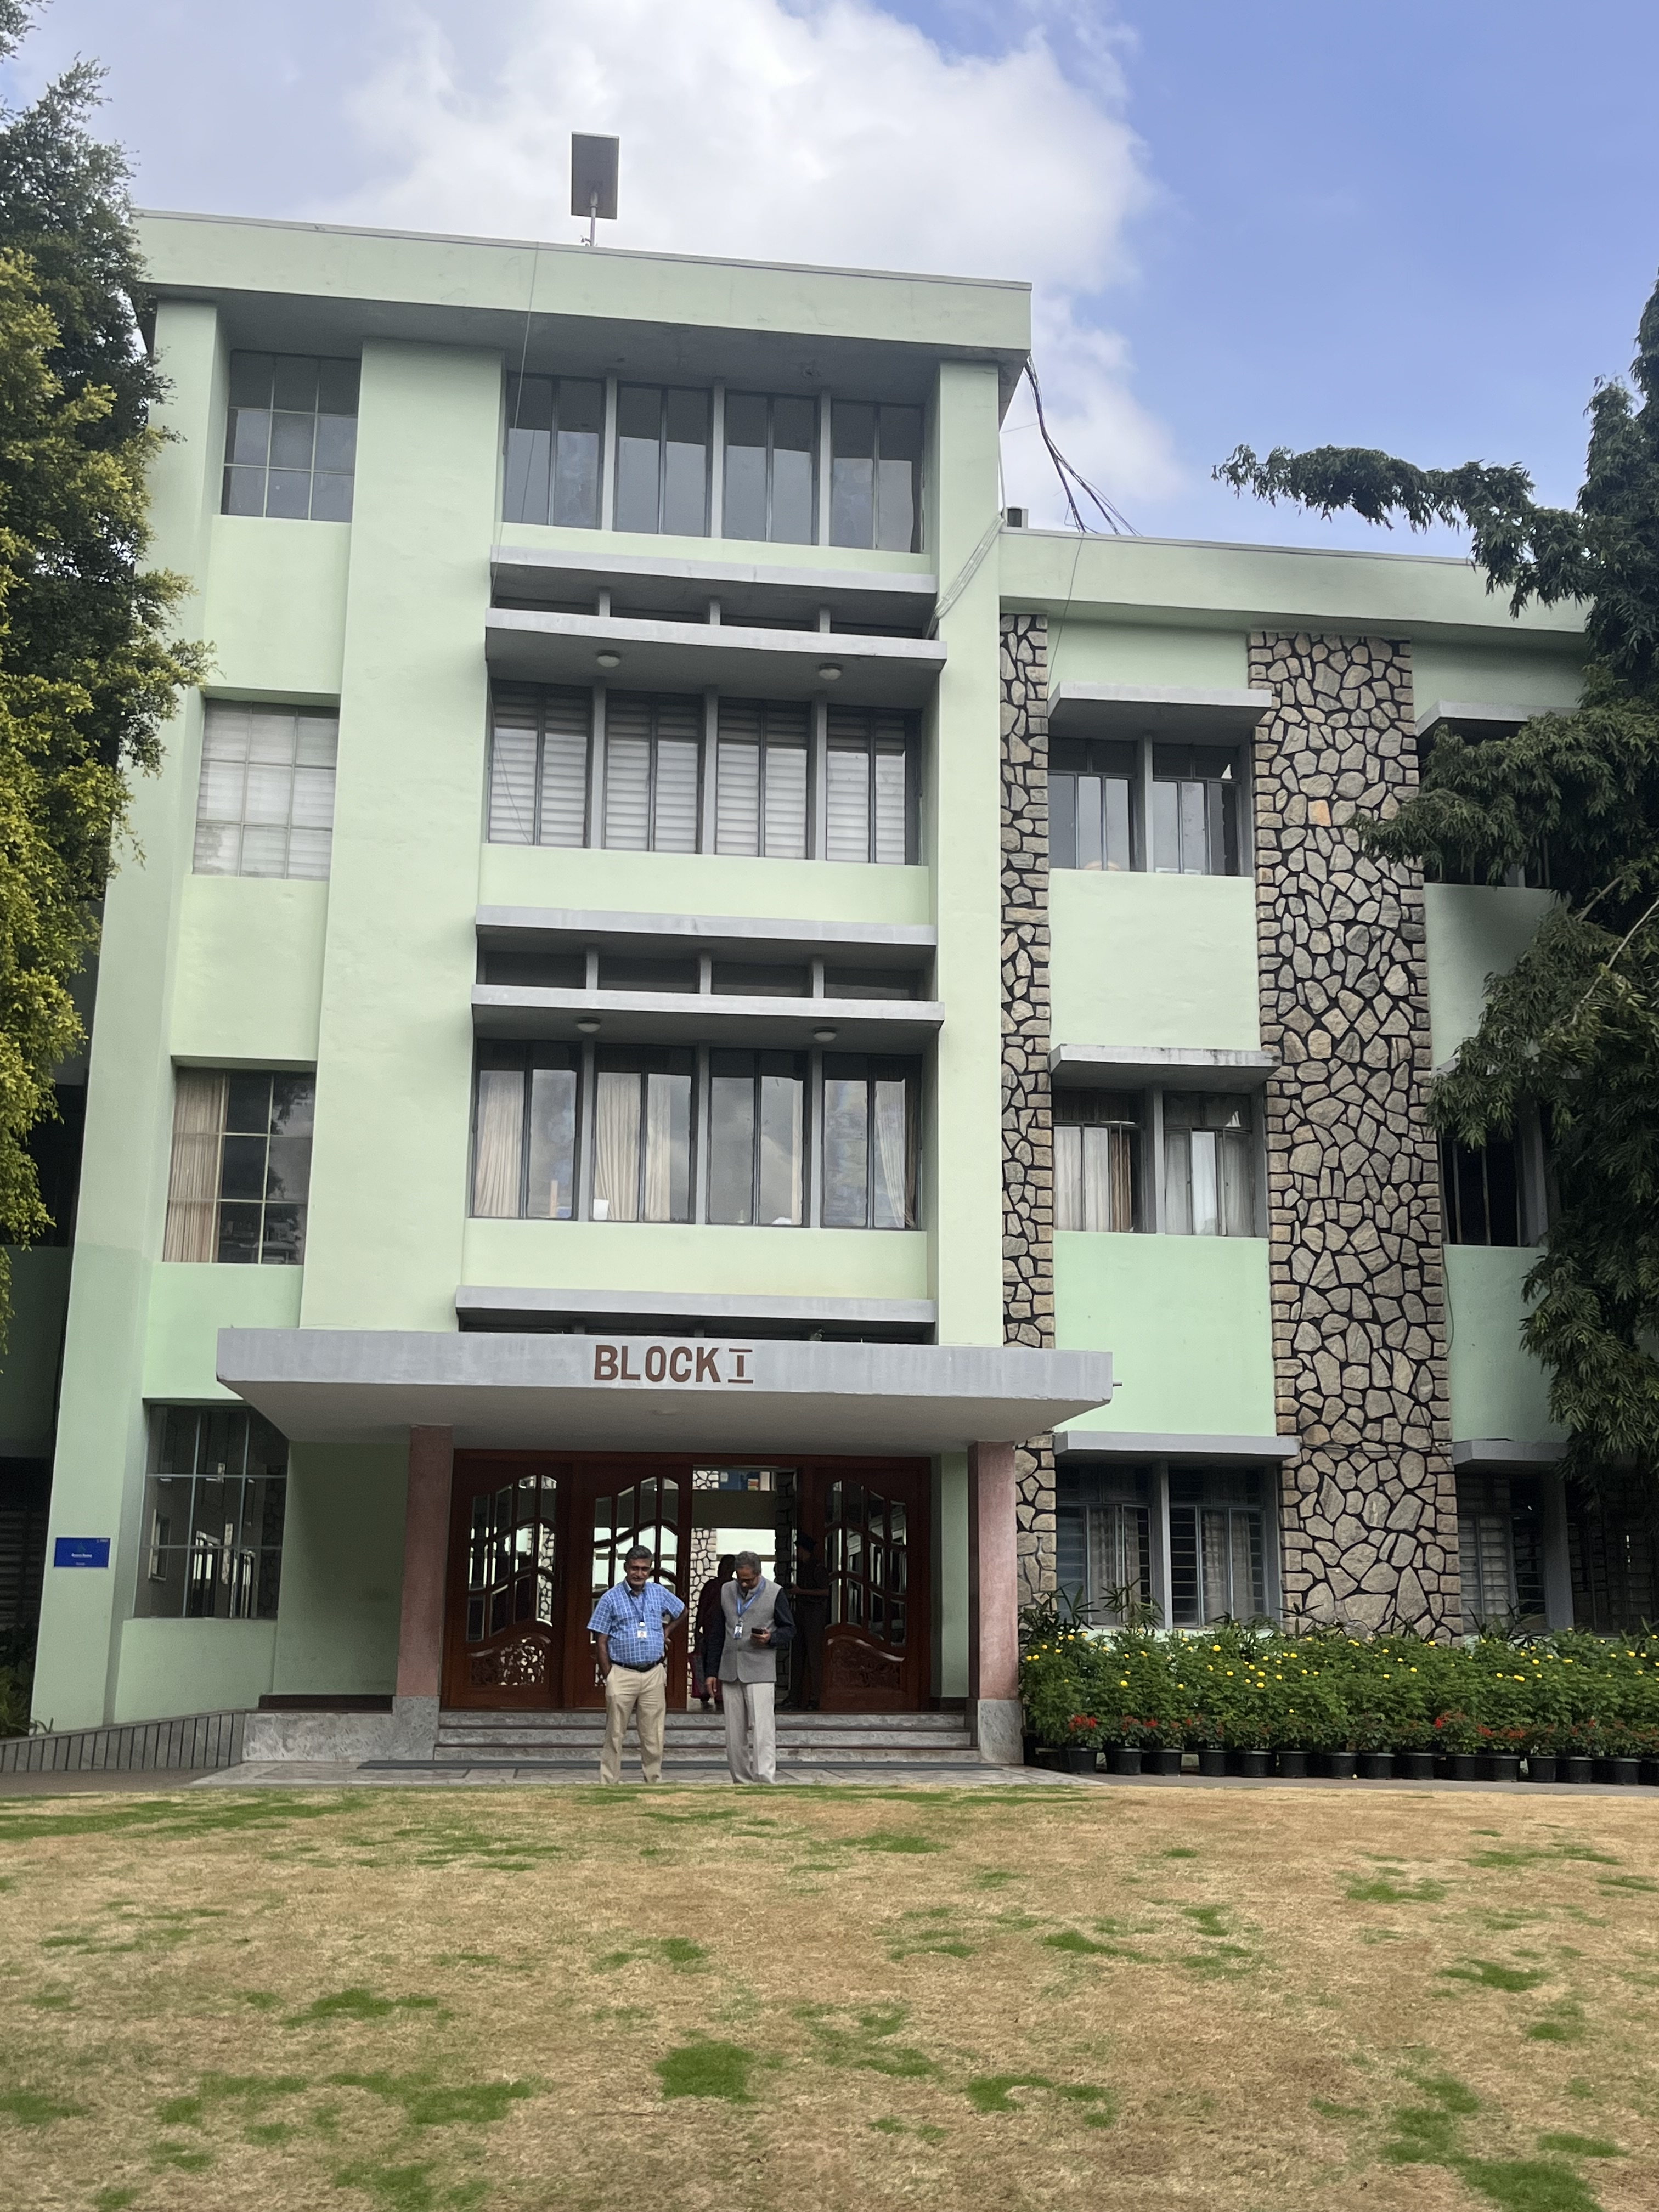Block 1: (89, 183, 1551, 1637)
